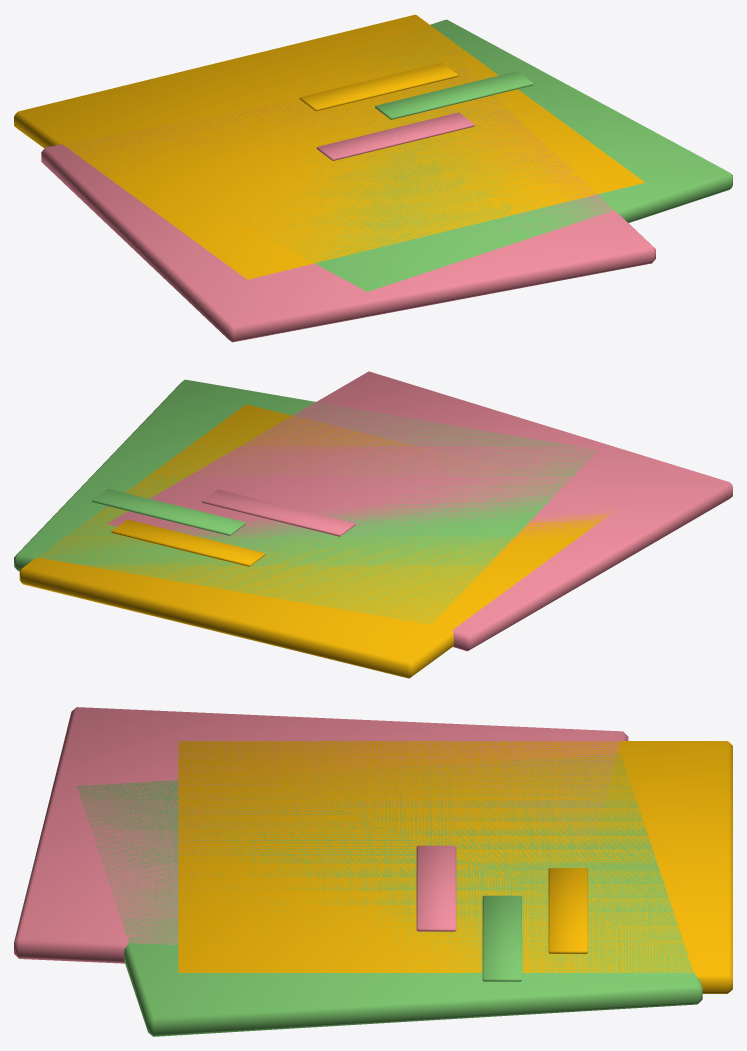
The model's file is prop_sticky_notes_v2.glb.
The picture shows the model from 3 angles, top to bottom: view 1: azimuth 30°, elevation 25°; view 2: azimuth 150°, elevation 25°; view 3: azimuth 270°, elevation 25°; orthographic projection. The views are drawn at different scales.
Visible parts, largest first — view 1: StickyNotesV2; view 2: StickyNotesV2; view 3: StickyNotesV2.
Part boxes in pixels (x1,y1,x2,y2): StickyNotesV2: [14, 14, 732, 342]; StickyNotesV2: [14, 371, 732, 678]; StickyNotesV2: [14, 707, 732, 1036].
Bounding box in the file's own units: 1.13 × 0.041 × 1.09.
